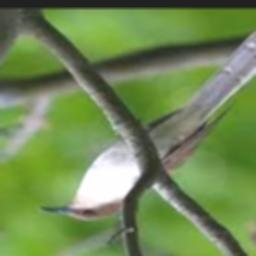Cuckoo: (38, 25, 256, 221)
